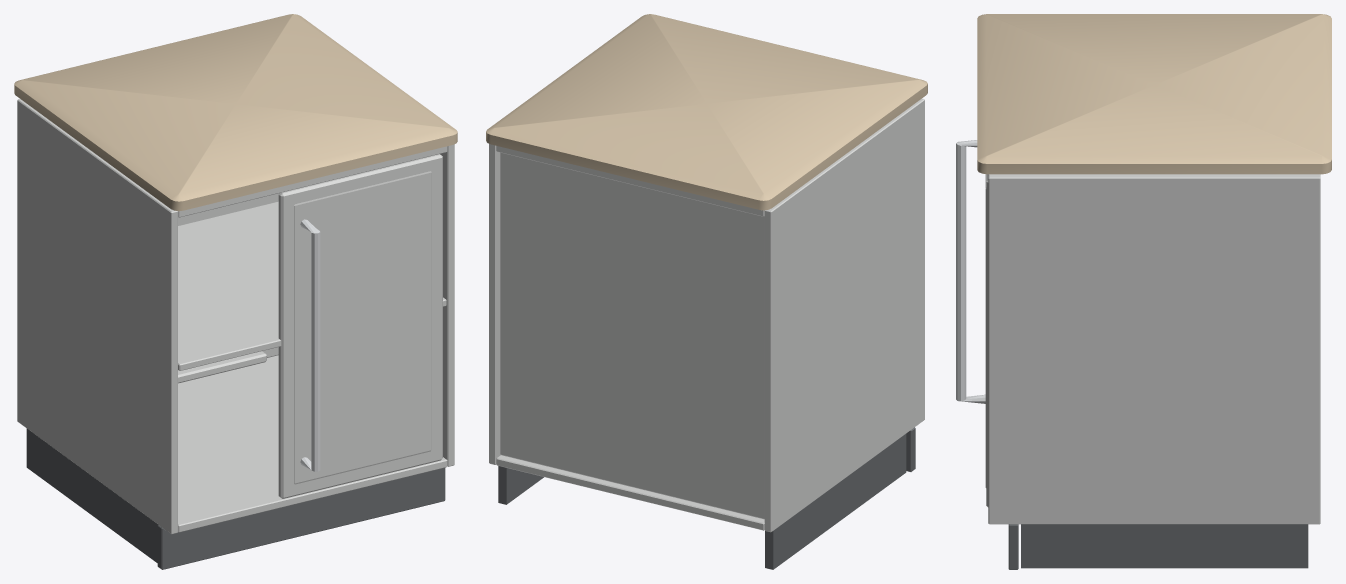
The model's file is clinic-and-veterinary-practice-dispensing-counter-corn-c357a025__16779.glb.
3 views of the same model, side by side, from view 1: azimuth 30°, elevation 25°; view 2: azimuth 150°, elevation 25°; view 3: azimuth 270°, elevation 25° (orthographic). The views are drawn at different scales.
Parts seen in each view (by area): view 1: dispensing-counter-corner, door/carcass, door/metal; view 2: dispensing-counter-corner; view 3: dispensing-counter-corner, door/metal, door/carcass.
Part boxes in pixels (box(x1,y1,x2,y2)): dispensing-counter-corner: box(14, 14, 457, 569); door/carcass: box(278, 154, 442, 498); door/metal: box(300, 219, 320, 471); dispensing-counter-corner: box(486, 14, 927, 569); dispensing-counter-corner: box(977, 14, 1331, 569); door/metal: box(956, 140, 985, 403); door/carcass: box(985, 174, 988, 507).
Size of the model in its own units: 0.704 by 0.9 by 0.746.
